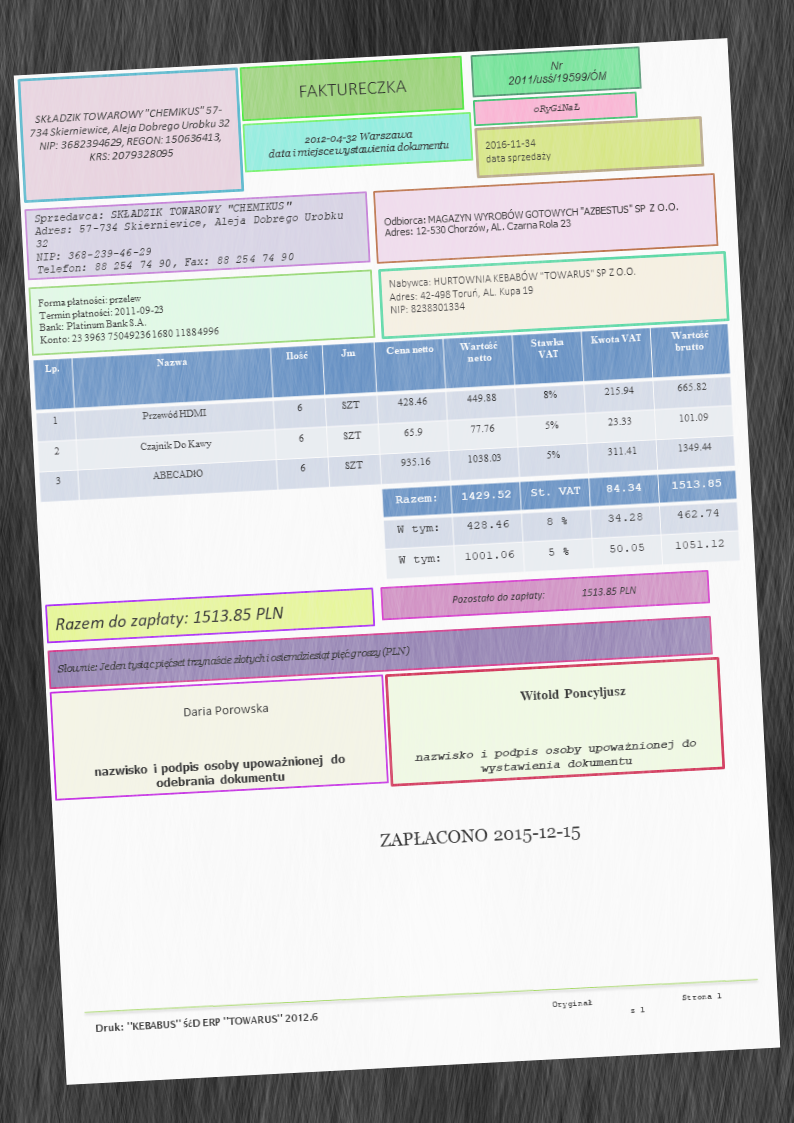Table: (31, 322, 736, 504), (379, 469, 742, 580)
TextBox: (31, 193, 349, 276), (26, 100, 233, 168), (53, 640, 411, 679), (386, 264, 638, 315), (411, 736, 698, 779), (382, 199, 681, 240), (33, 285, 222, 347), (90, 752, 349, 794), (51, 599, 286, 633), (91, 1006, 323, 1037), (375, 820, 583, 854), (265, 126, 453, 161), (550, 990, 727, 1020), (447, 582, 639, 606), (503, 54, 609, 89), (294, 76, 410, 102), (516, 681, 630, 705), (179, 696, 273, 720), (482, 135, 553, 166), (530, 99, 583, 115)
